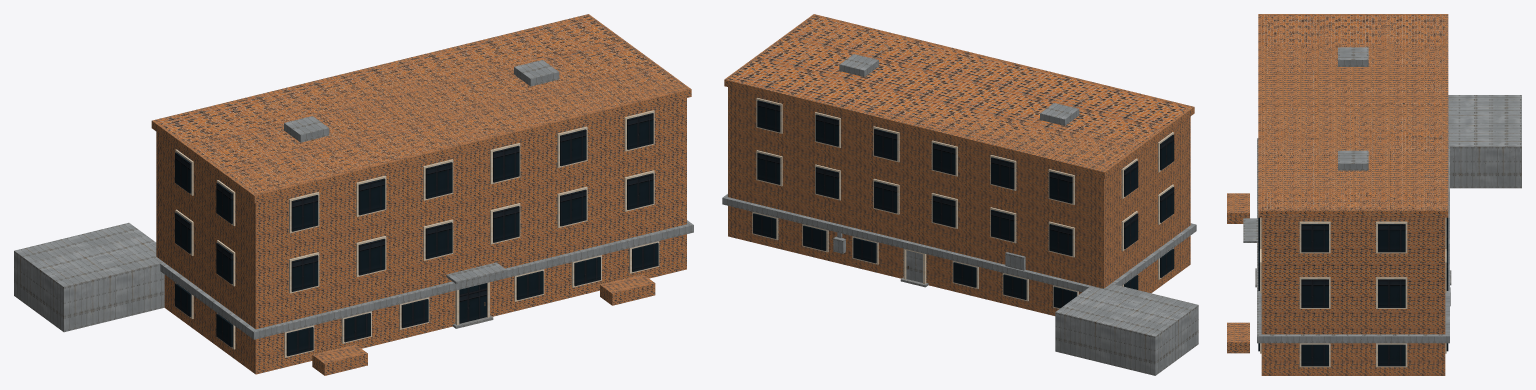
The model's file is rose-garden-apartments_lod0.gltf.
3 views of the same model, side by side, from view 1: azimuth 30°, elevation 25°; view 2: azimuth 150°, elevation 25°; view 3: azimuth 270°, elevation 25° (orthographic). The views are drawn at different scales.
Visible parts, largest first — view 1: rose-garden-apartments_main, rose-garden-apartments__parapet, rose-garden-apartments_fen_07-glass-curtain-blue_1_t, rose-garden-apartments__playground, rose-garden-apartments_fen_04-limestone_0, rose-garden-apartments__trim_band, rose-garden-apartments__planter_a, rose-garden-apartments__planter_b, rose-garden-apartments__vent_a, rose-garden-apartments__vent_b, rose-garden-apartments_fen_14-steel-panel_4; view 2: rose-garden-apartments_main, rose-garden-apartments_fen_07-glass-curtain-blue_1_t, rose-garden-apartments__parapet, rose-garden-apartments__playground, rose-garden-apartments_fen_04-limestone_0, rose-garden-apartments__trim_band, rose-garden-apartments_fen_14-steel-panel_4, rose-garden-apartments__vent_b, rose-garden-apartments__vent_a; view 3: rose-garden-apartments__parapet, rose-garden-apartments_main, rose-garden-apartments__playground, rose-garden-apartments_fen_07-glass-curtain-blue_1_t, rose-garden-apartments__trim_band, rose-garden-apartments_fen_04-limestone_0, rose-garden-apartments__planter_b, rose-garden-apartments__planter_a, rose-garden-apartments__vent_b, rose-garden-apartments__vent_a, rose-garden-apartments_fen_14-steel-panel_4.
Part boxes in pixels (x1,y1,x2,y2): rose-garden-apartments_main: (156,16,686,374); rose-garden-apartments__parapet: (151,14,691,203); rose-garden-apartments_fen_07-glass-curtain-blue_1_t: (175,113,658,356); rose-garden-apartments__playground: (14,222,164,332); rose-garden-apartments_fen_04-limestone_0: (175,110,659,357); rose-garden-apartments__trim_band: (160,220,693,339); rose-garden-apartments__planter_a: (312,344,367,375); rose-garden-apartments__planter_b: (600,274,655,305); rose-garden-apartments__vent_a: (284,116,329,142); rose-garden-apartments__vent_b: (514,60,559,86); rose-garden-apartments_fen_14-steel-panel_4: (446,262,506,284); rose-garden-apartments_main: (728,16,1190,315); rose-garden-apartments_fen_07-glass-curtain-blue_1_t: (753,100,1174,308); rose-garden-apartments__parapet: (724,14,1194,178); rose-garden-apartments__playground: (1055,283,1198,375); rose-garden-apartments_fen_04-limestone_0: (752,98,1173,308); rose-garden-apartments__trim_band: (722,194,1196,292); rose-garden-apartments_fen_14-steel-panel_4: (833,232,1025,282); rose-garden-apartments__vent_b: (839,54,878,76); rose-garden-apartments__vent_a: (1040,103,1079,125); rose-garden-apartments__parapet: (1258,14,1448,217); rose-garden-apartments_main: (1261,15,1445,375); rose-garden-apartments__playground: (1448,95,1521,188); rose-garden-apartments_fen_07-glass-curtain-blue_1_t: (1258,217,1448,366); rose-garden-apartments__trim_band: (1257,138,1449,343); rose-garden-apartments_fen_04-limestone_0: (1257,217,1446,367); rose-garden-apartments__planter_b: (1227,322,1249,353); rose-garden-apartments__planter_a: (1227,193,1249,223); rose-garden-apartments__vent_b: (1338,150,1368,170); rose-garden-apartments__vent_a: (1338,47,1368,66); rose-garden-apartments_fen_14-steel-panel_4: (1243,218,1450,306).
Bounding box in the file's own units: 37.3 × 12.5 × 19.25.
